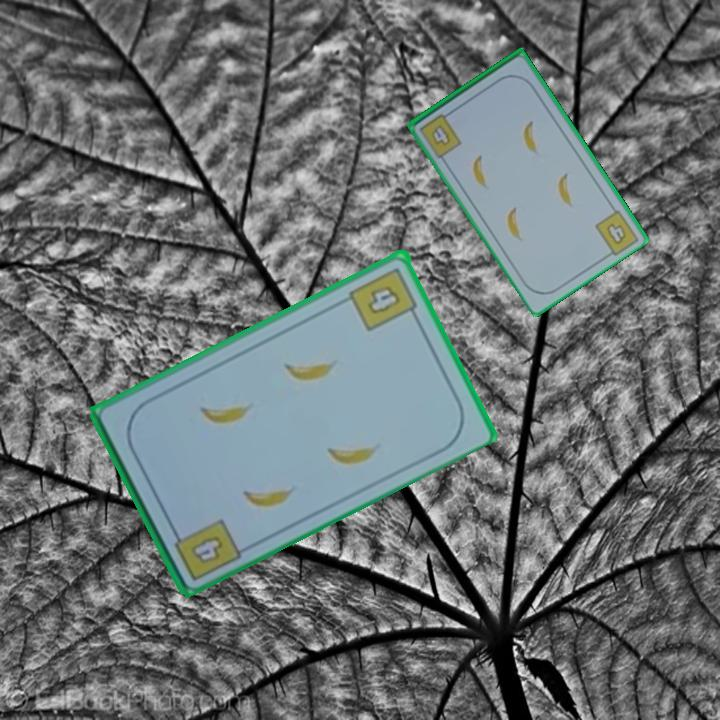4b: (346, 263, 422, 334), (167, 514, 244, 584), (416, 107, 465, 159), (603, 220, 630, 248)
